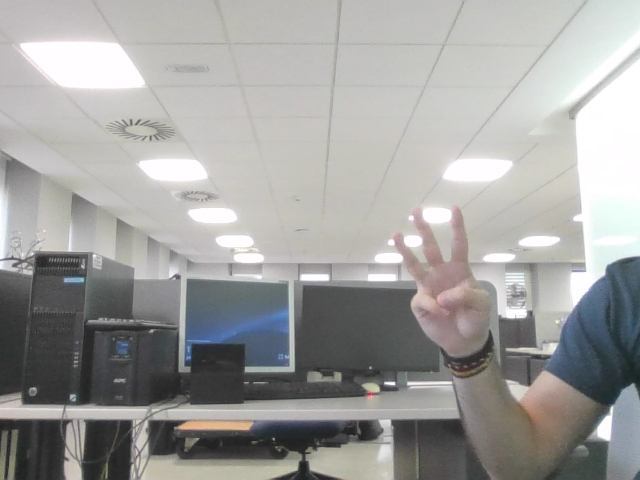3Dedos: (399, 217, 480, 318)
